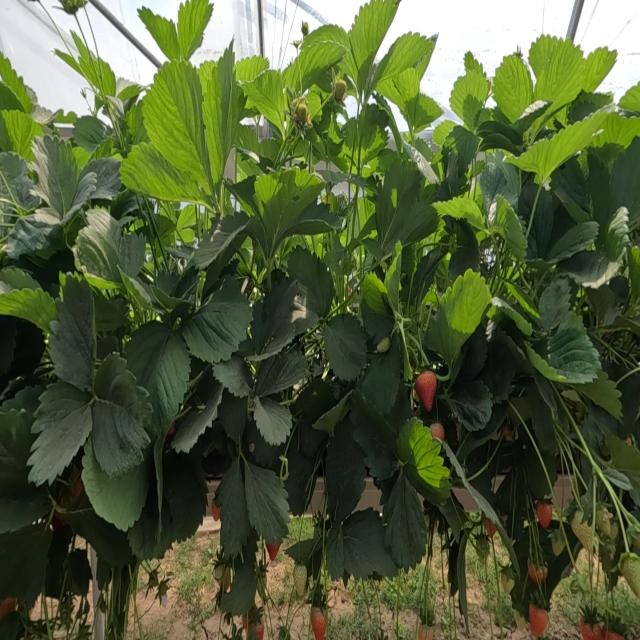Leaves: (142, 62, 212, 191), (125, 321, 190, 440), (91, 356, 151, 478), (509, 111, 609, 184), (28, 380, 92, 484), (425, 270, 491, 370), (0, 409, 49, 534), (179, 280, 251, 364), (81, 445, 149, 532), (376, 163, 438, 258), (240, 279, 310, 361), (560, 206, 629, 289), (73, 209, 145, 285), (202, 49, 244, 177), (35, 136, 96, 220), (326, 508, 398, 579), (121, 143, 206, 203), (49, 281, 96, 389), (342, 0, 397, 84), (325, 414, 367, 520), (529, 36, 589, 110), (542, 311, 601, 383), (383, 471, 426, 569), (0, 523, 51, 604), (397, 420, 449, 497), (171, 383, 224, 452), (350, 404, 397, 480), (245, 461, 289, 541), (216, 457, 250, 558), (288, 246, 334, 318), (450, 52, 490, 130), (359, 343, 402, 414), (378, 33, 434, 85), (324, 313, 367, 380), (492, 55, 535, 122), (379, 68, 422, 135), (242, 69, 287, 132), (0, 287, 57, 334), (254, 348, 305, 397), (610, 139, 640, 222), (137, 6, 181, 60), (544, 221, 598, 264), (448, 380, 493, 431), (479, 341, 515, 404), (574, 371, 622, 418), (177, 0, 213, 60), (2, 110, 43, 161), (362, 278, 394, 342), (252, 396, 292, 446), (433, 192, 485, 229), (527, 191, 555, 259), (212, 356, 253, 398), (539, 279, 571, 331), (582, 47, 617, 92), (84, 158, 121, 200), (519, 185, 534, 223)
Strawberries: (138, 561, 169, 605), (414, 370, 437, 411), (620, 552, 640, 599), (571, 511, 594, 551), (596, 507, 618, 540), (529, 604, 548, 637), (290, 98, 311, 127), (310, 607, 327, 639), (473, 528, 489, 561), (528, 559, 548, 584), (213, 565, 231, 592), (536, 502, 552, 529), (500, 565, 514, 594), (0, 598, 16, 618), (334, 78, 347, 102), (417, 620, 433, 639), (266, 542, 281, 561), (249, 622, 264, 639), (73, 477, 84, 498), (430, 424, 444, 440), (484, 519, 496, 537), (212, 498, 220, 521)
